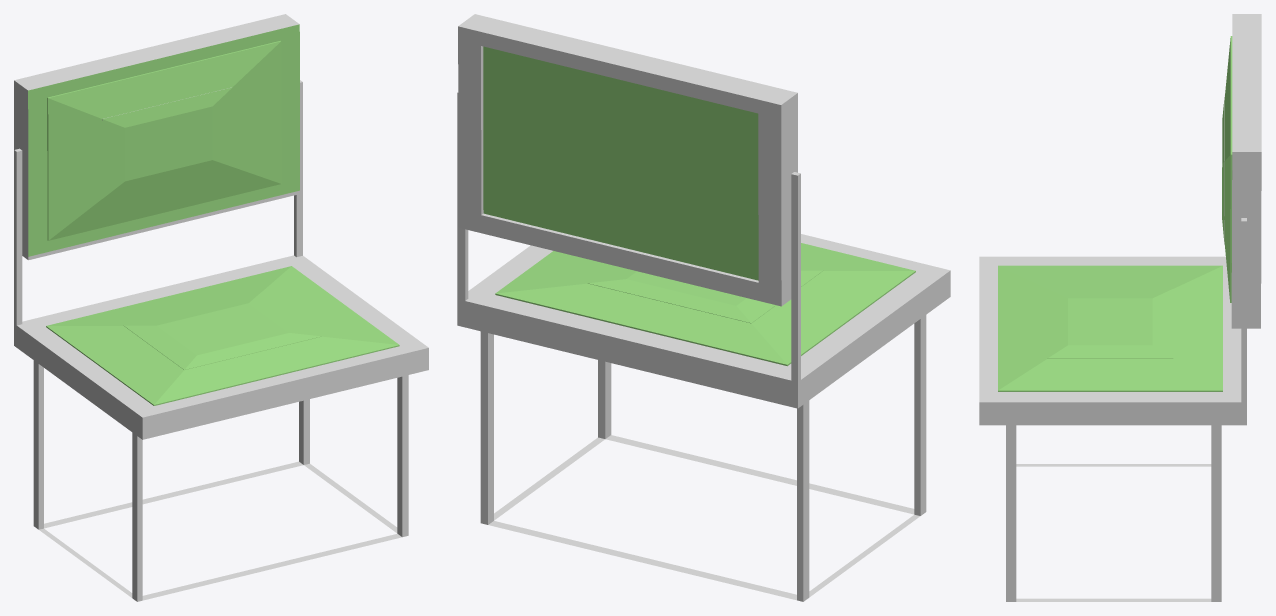
Rendered from Chair.fbx.
The picture shows the model from 3 angles, left to right: view 1: azimuth 30°, elevation 25°; view 2: azimuth 150°, elevation 25°; view 3: azimuth 270°, elevation 25°; orthographic projection. The views are drawn at different scales.
Parts seen in each view (by area): view 1: Chair; view 2: Chair; view 3: Chair.
Part boxes in pixels (bbox=[...]): Chair: bbox=[14, 14, 428, 601]; Chair: bbox=[457, 14, 950, 601]; Chair: bbox=[979, 14, 1261, 601].
Size of the model in its own units: 49.3 by 71.09 by 40.43.
